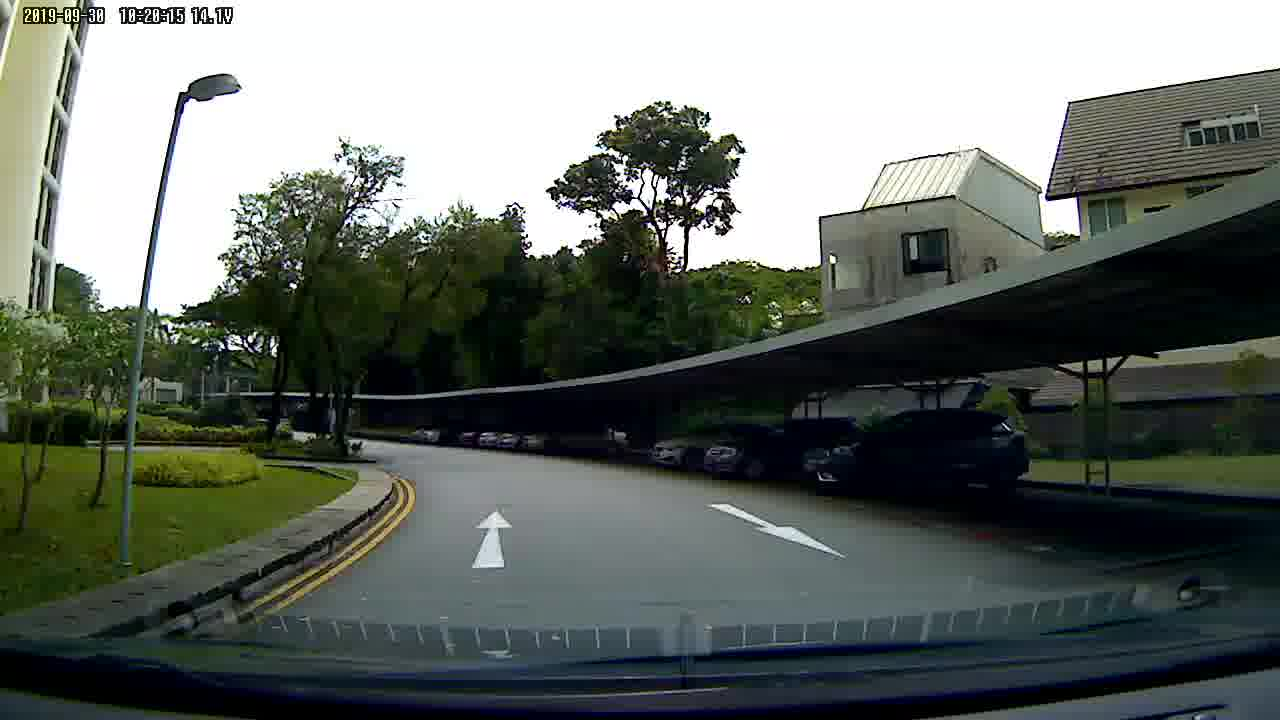car: (798, 407, 1034, 499), (700, 416, 809, 479), (644, 431, 698, 472)
